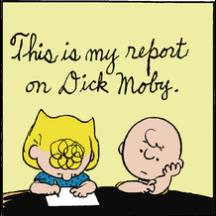charlie: (116, 116, 186, 196)
